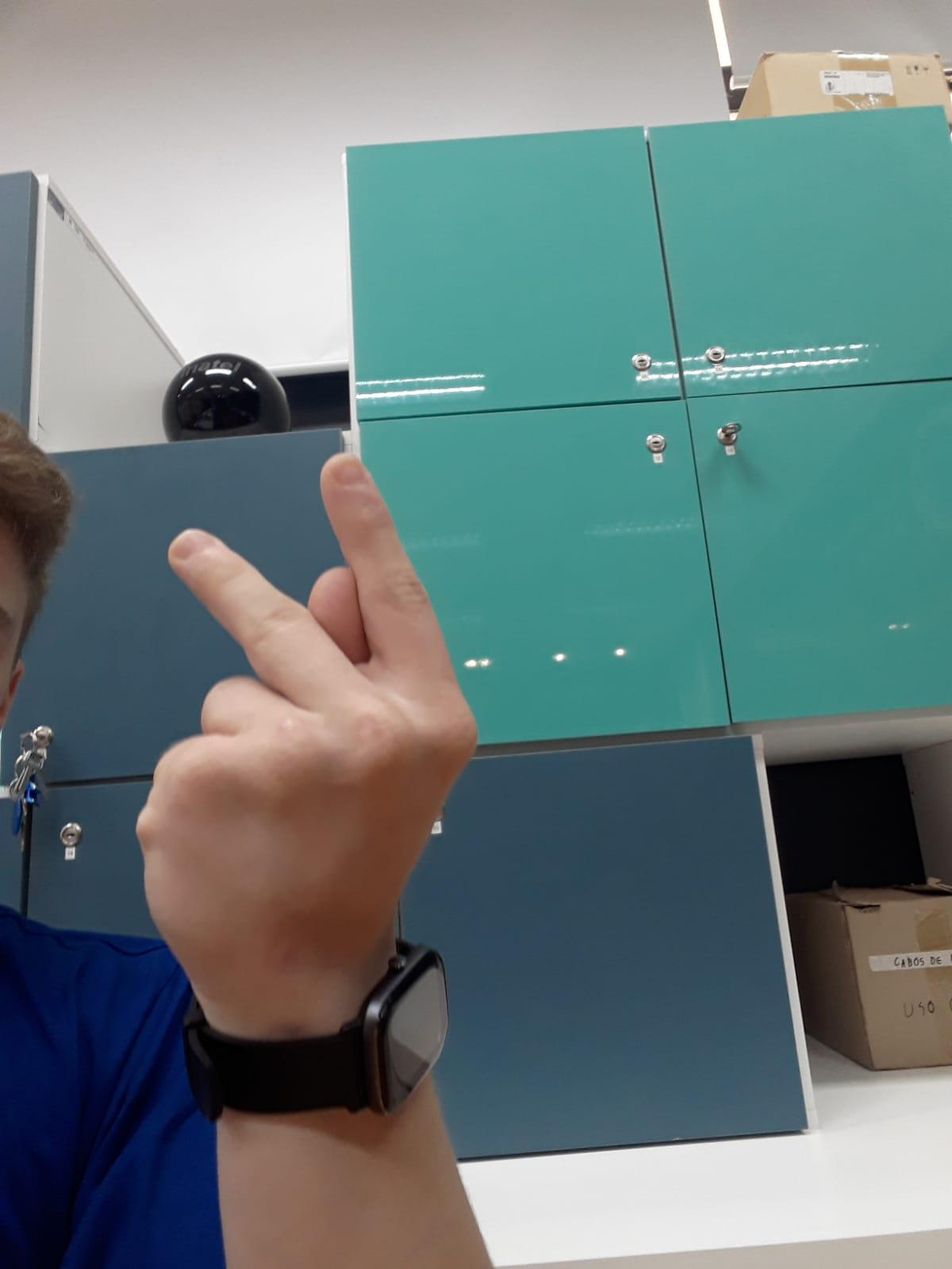K: (127, 456, 520, 980)
